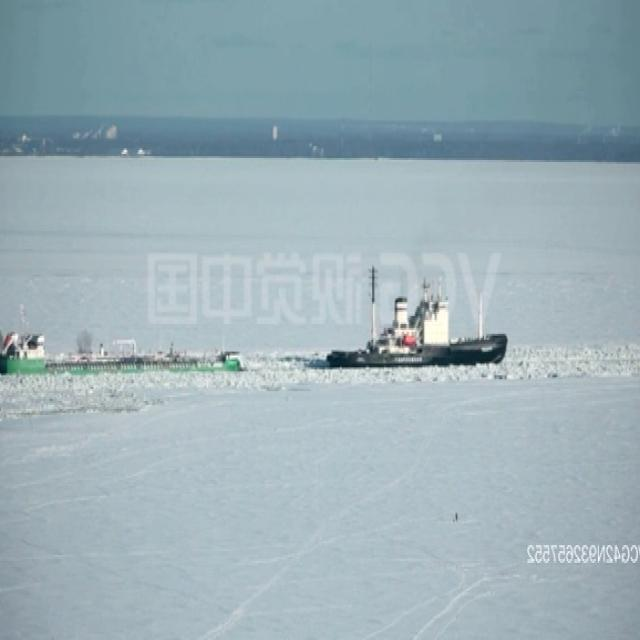cargoship: (0, 320, 246, 377)
houseboat: (324, 273, 507, 368)
